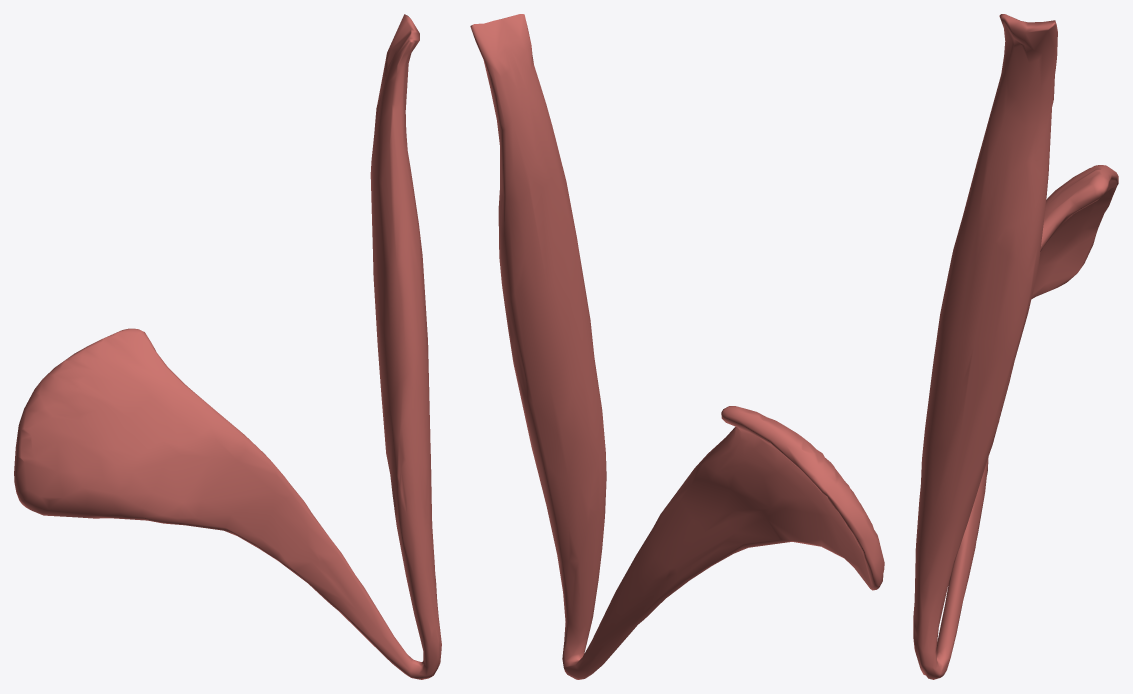
3 renders of one model, left to right at view 1: azimuth 30°, elevation 25°; view 2: azimuth 150°, elevation 25°; view 3: azimuth 270°, elevation 25°, orthographic. The views are drawn at different scales.
Visible parts, largest first — view 1: 右侧上斜肌; view 2: 右侧上斜肌; view 3: 右侧上斜肌.
Boxes of the visible parts, bbox=[...] form: 右侧上斜肌: bbox=[14, 14, 441, 679]; 右侧上斜肌: bbox=[470, 14, 884, 679]; 右侧上斜肌: bbox=[913, 14, 1118, 679].
Size of the model in its own units: 0.0412 by 0.0638 by 0.0175.
